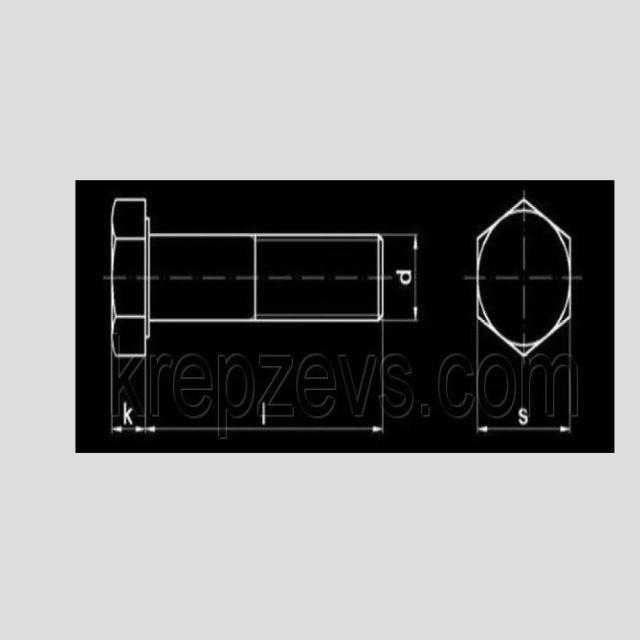marking_line: (147, 426, 382, 433), (479, 426, 569, 433), (412, 235, 419, 318), (113, 425, 144, 436)
